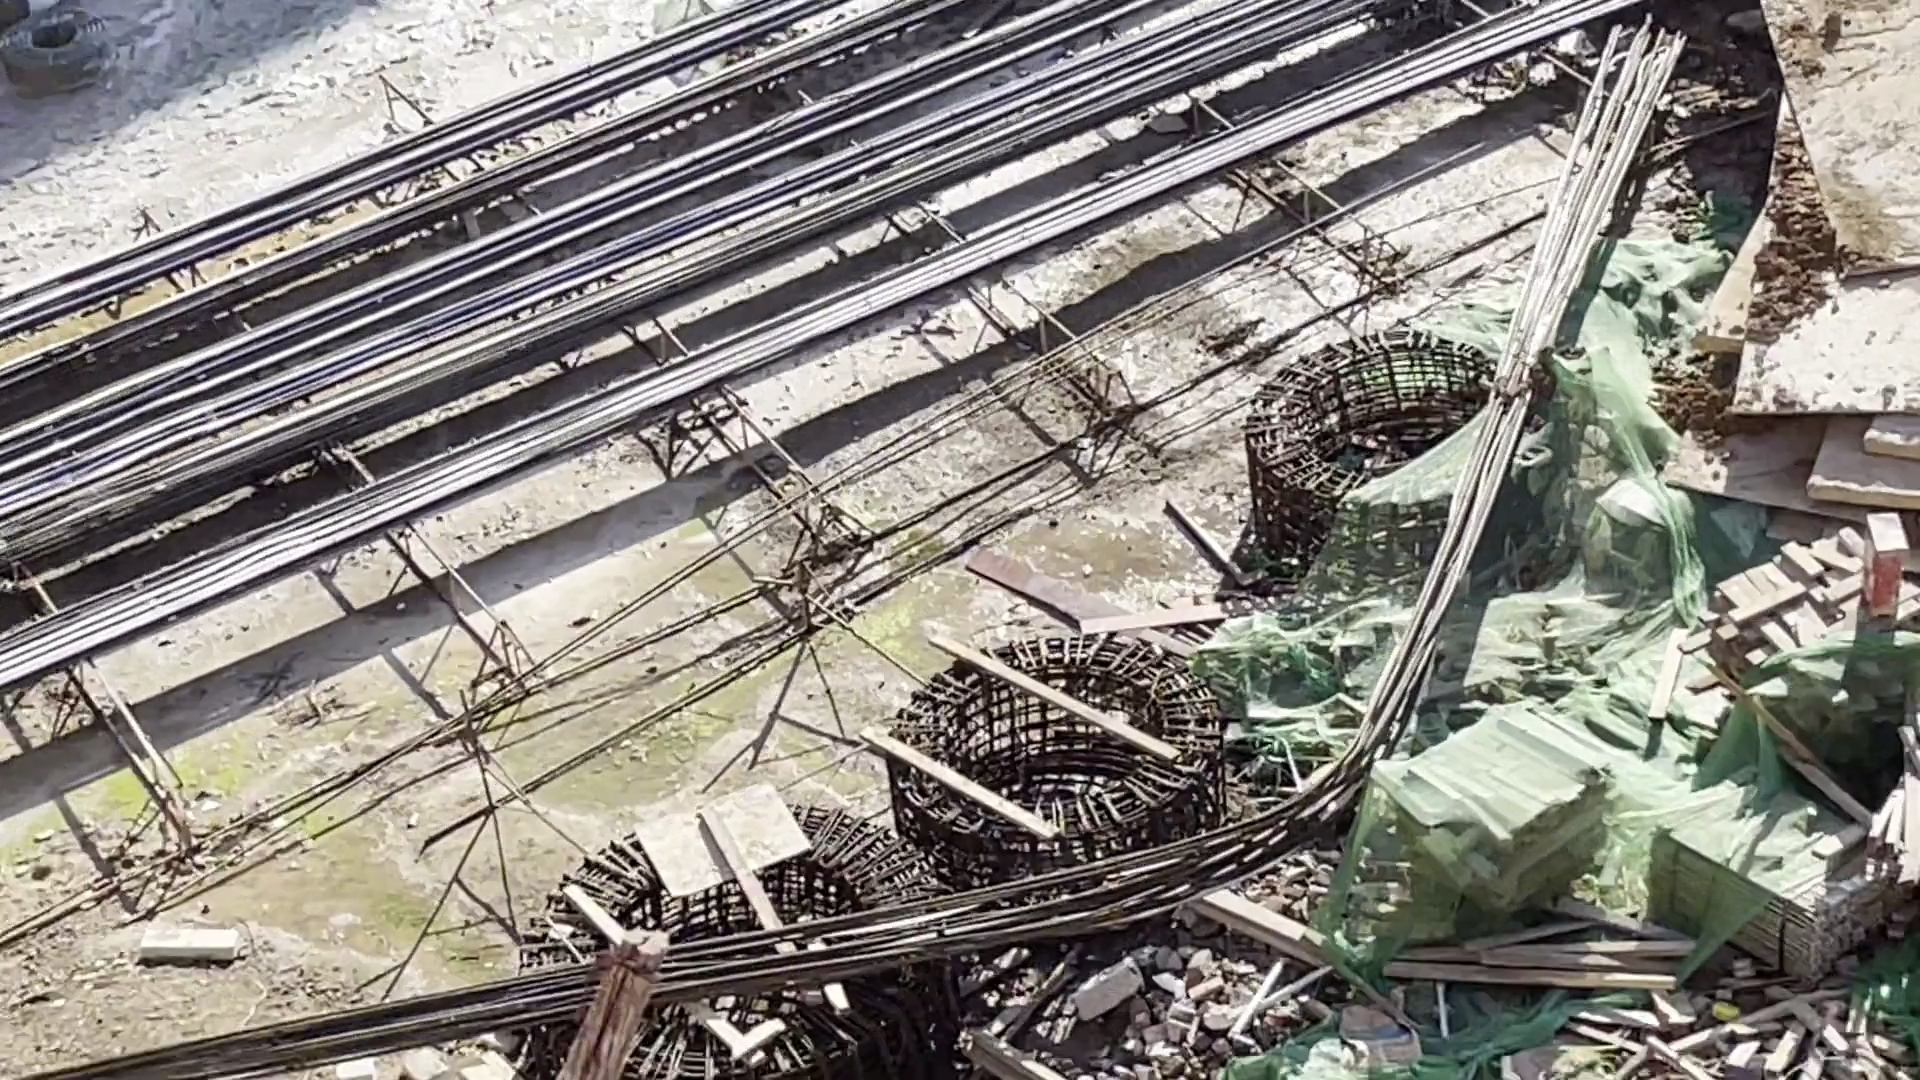board: (1669, 1, 1920, 516)
rebar: (1, 1, 1646, 767), (5, 774, 1305, 1080)
wood: (1651, 796, 1884, 978)
